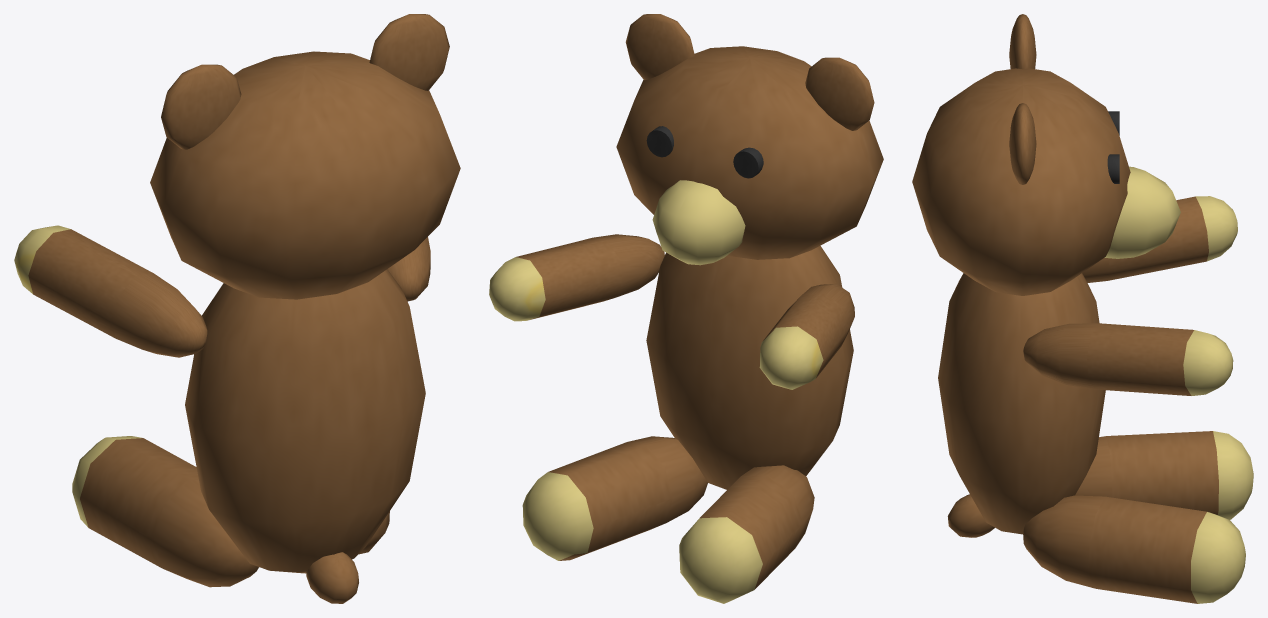
Rendered from TeddyBear.FBX.
3 views of the same model, side by side, from view 1: azimuth 30°, elevation 25°; view 2: azimuth 150°, elevation 25°; view 3: azimuth 270°, elevation 25° (orthographic). The views are drawn at different scales.
Parts seen in each view (by area): view 1: Sphere002, Sphere001, Capsule003, Capsule001, Sphere004, Sphere005, Sphere006, Capsule002; view 2: Sphere001, Sphere002, Capsule004, Capsule003, Capsule002, Capsule001, Sphere003, Sphere004, Sphere005, Cylinder015, Cylinder016; view 3: Sphere001, Sphere002, Capsule004, Capsule002, Capsule003, Capsule001, Sphere003, Sphere005, Sphere006, Sphere004.
Boxes of the visible parts, x1,y1,x2,y2 form: Sphere002: (185, 269, 425, 573); Sphere001: (150, 51, 460, 299); Capsule003: (72, 436, 258, 587); Capsule001: (14, 225, 207, 357); Sphere004: (161, 64, 241, 149); Sphere005: (369, 14, 449, 90); Sphere006: (306, 552, 358, 603); Capsule002: (387, 237, 430, 301); Sphere001: (616, 46, 883, 259); Sphere002: (646, 245, 853, 489); Capsule004: (522, 436, 707, 560); Capsule003: (679, 465, 814, 603); Capsule002: (489, 234, 664, 321); Capsule001: (759, 283, 854, 389); Sphere003: (652, 180, 745, 265); Sphere004: (805, 57, 874, 130); Sphere005: (625, 14, 694, 80); Cylinder015: (733, 147, 763, 178); Cylinder016: (646, 126, 673, 157); Sphere001: (912, 68, 1130, 295); Sphere002: (938, 273, 1105, 534); Capsule004: (1023, 495, 1245, 603); Capsule002: (1023, 323, 1233, 395); Capsule003: (1075, 431, 1253, 519); Capsule001: (1082, 196, 1237, 282); Sphere003: (1104, 166, 1180, 258); Sphere005: (1009, 103, 1036, 184); Sphere006: (947, 494, 994, 537); Sphere004: (1009, 14, 1036, 69).
Size of the model in its own units: 0.1018 by 0.1429 by 0.0905.
1 material, 1 textured.
